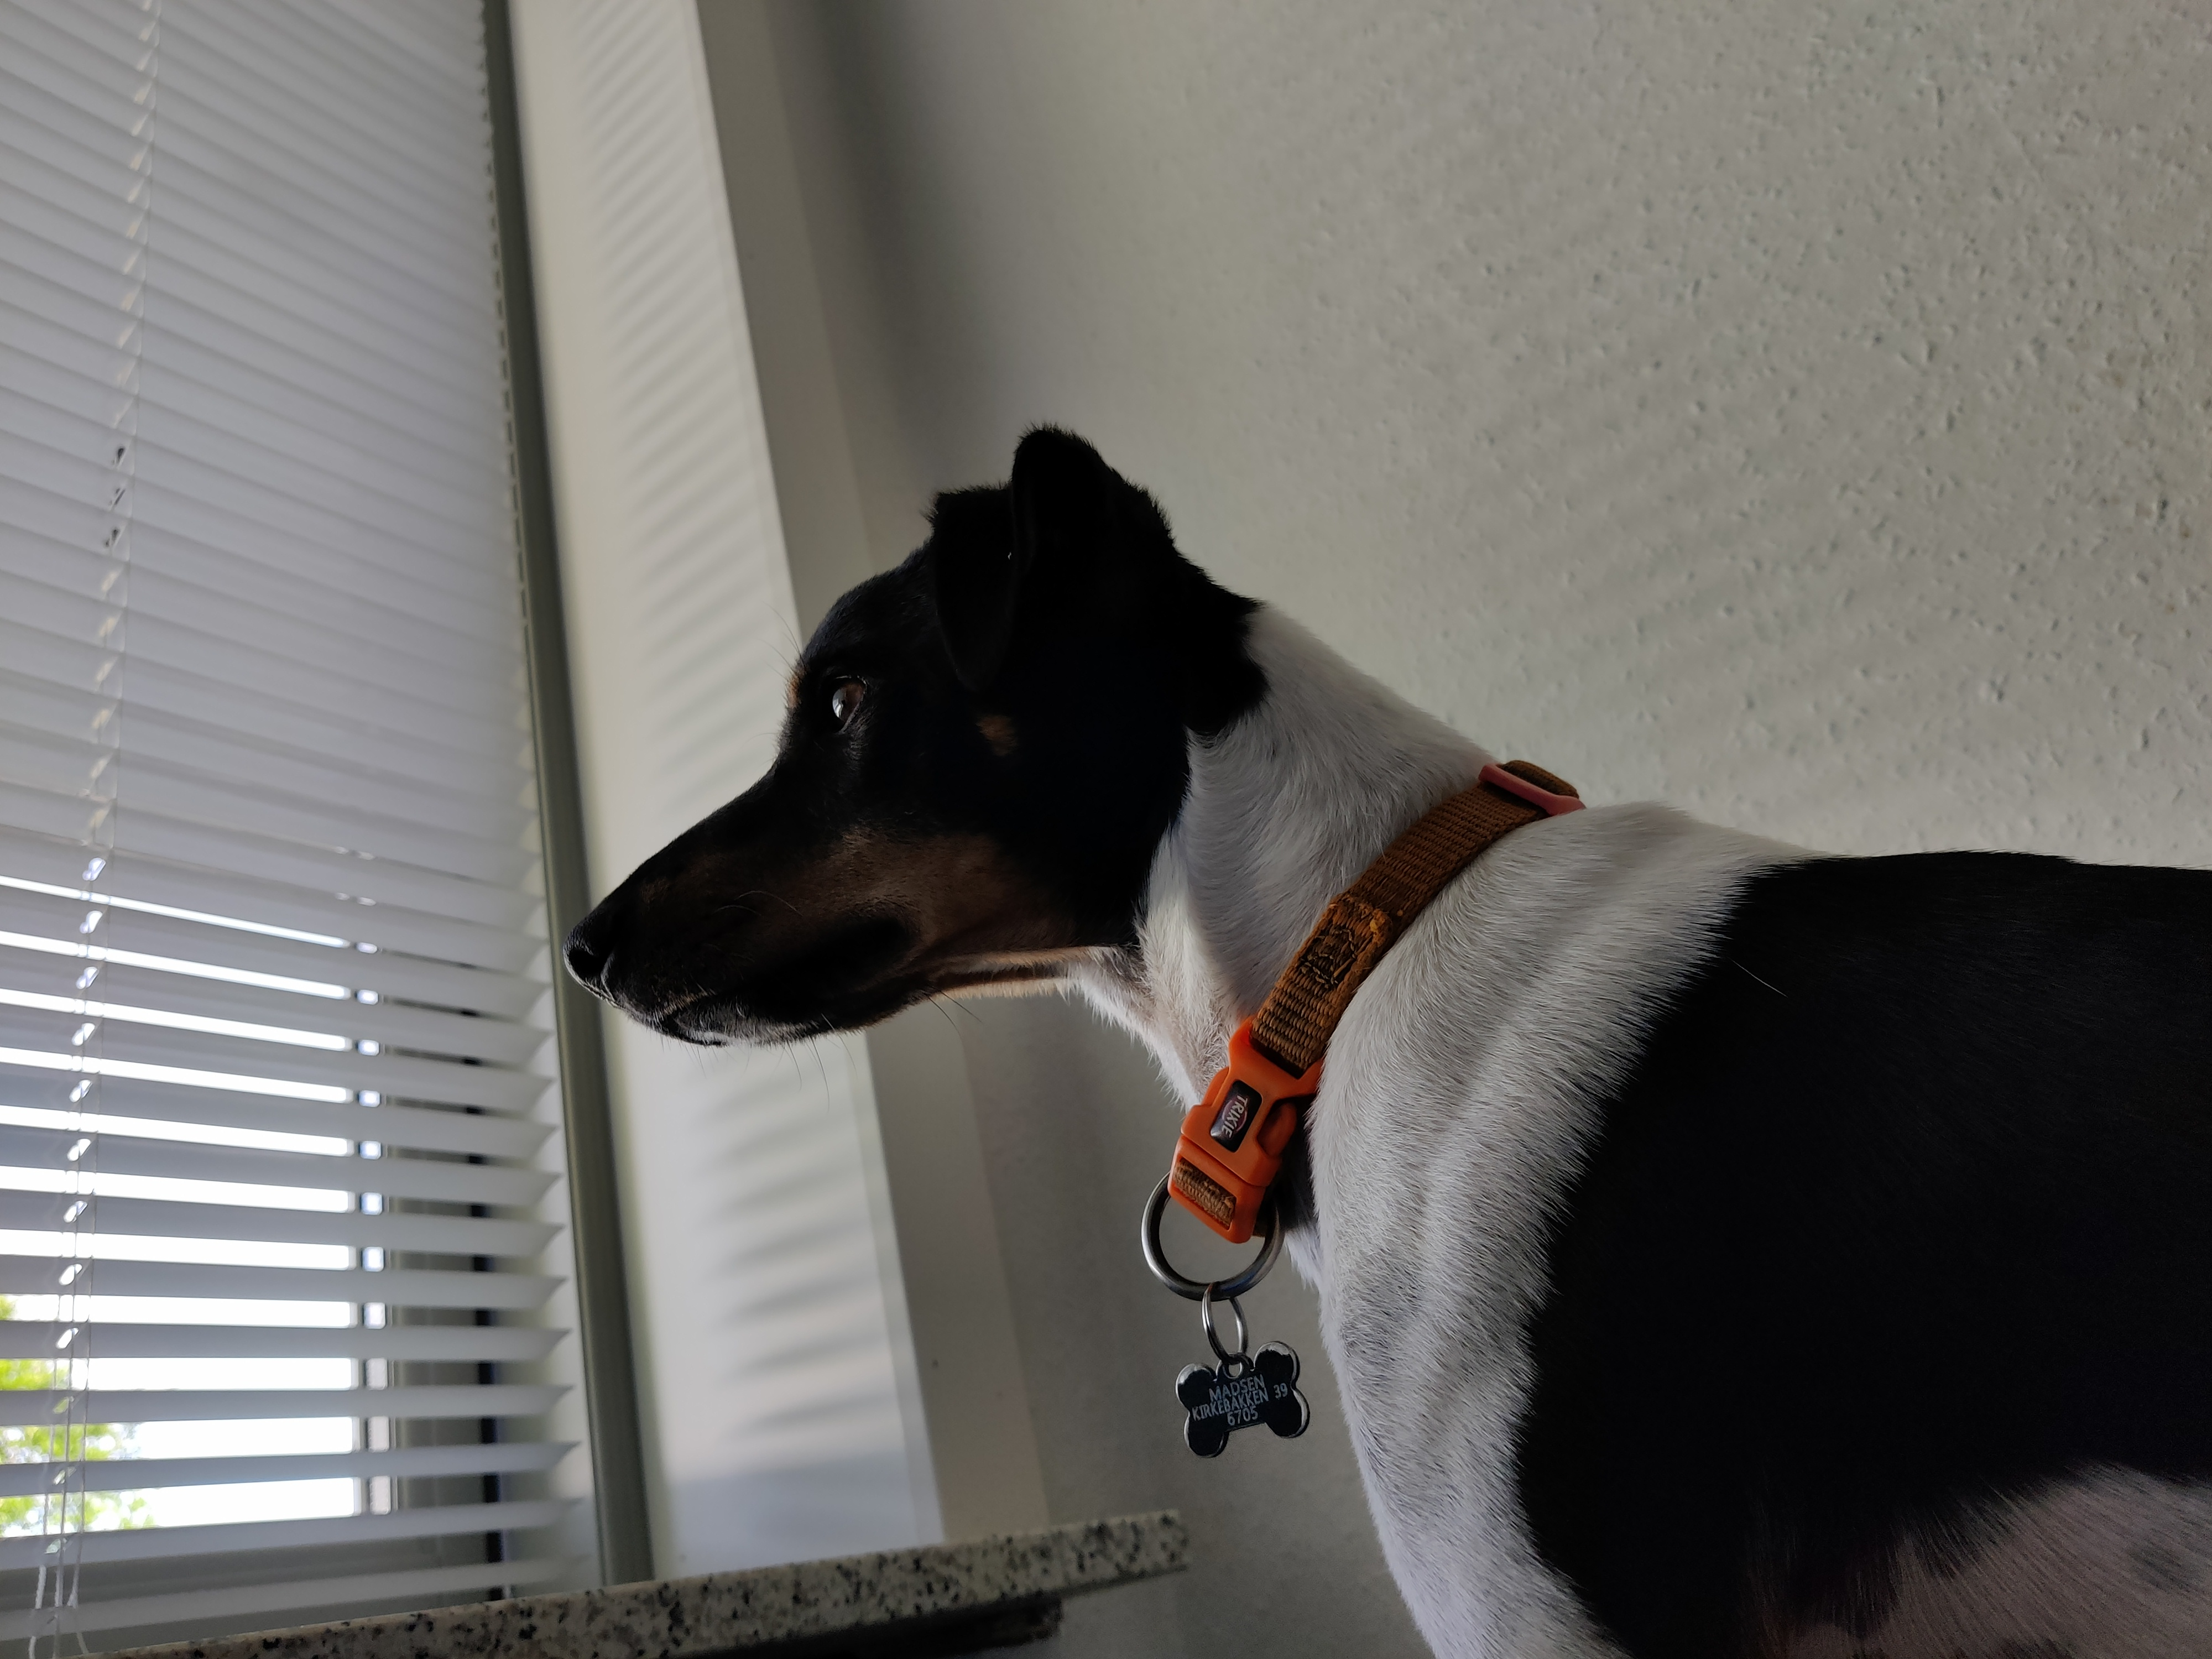Dog: (547, 425, 2212, 1659)
